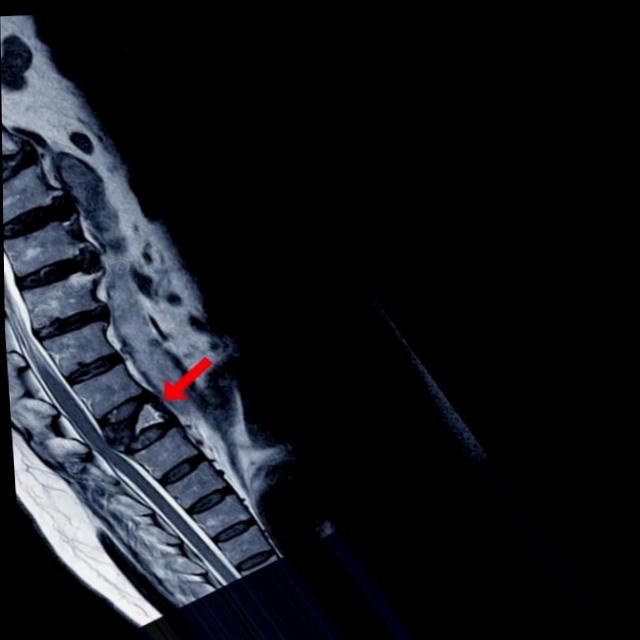Comminuted: (89, 389, 186, 466)
